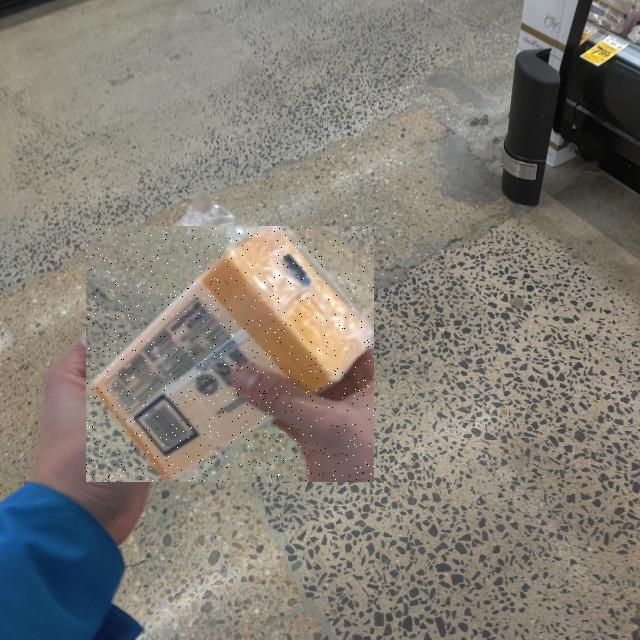Cheese: (86, 226, 374, 482)
